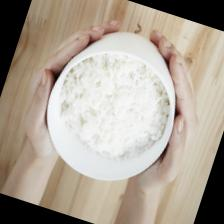rice: (44, 38, 183, 172)
